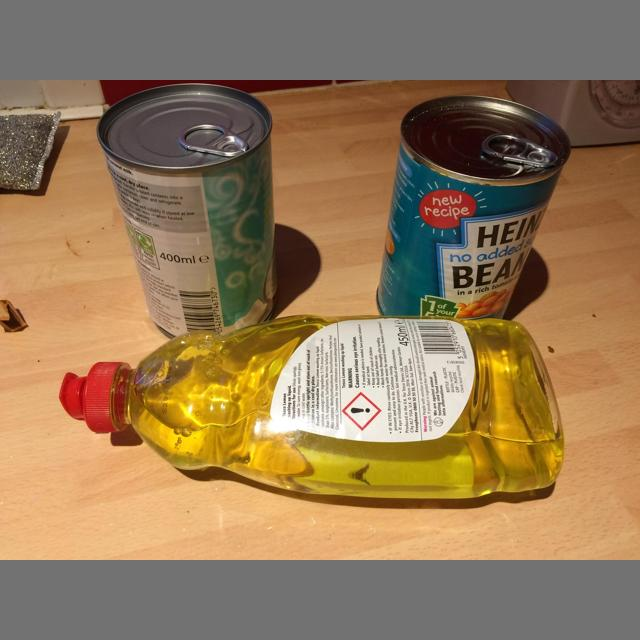litter: (59, 315, 564, 499), (97, 83, 278, 340), (376, 95, 571, 320), (59, 362, 123, 433), (481, 133, 558, 168), (178, 123, 249, 157)
